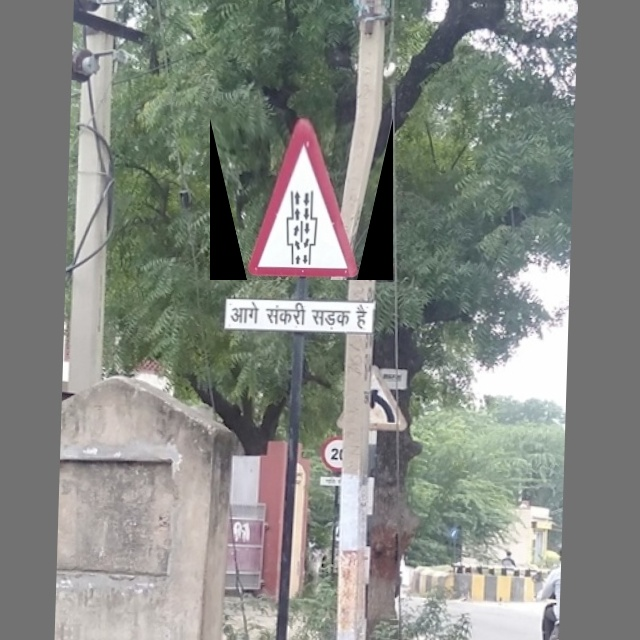Narrow_Road_Ahead: (210, 118, 393, 280)
